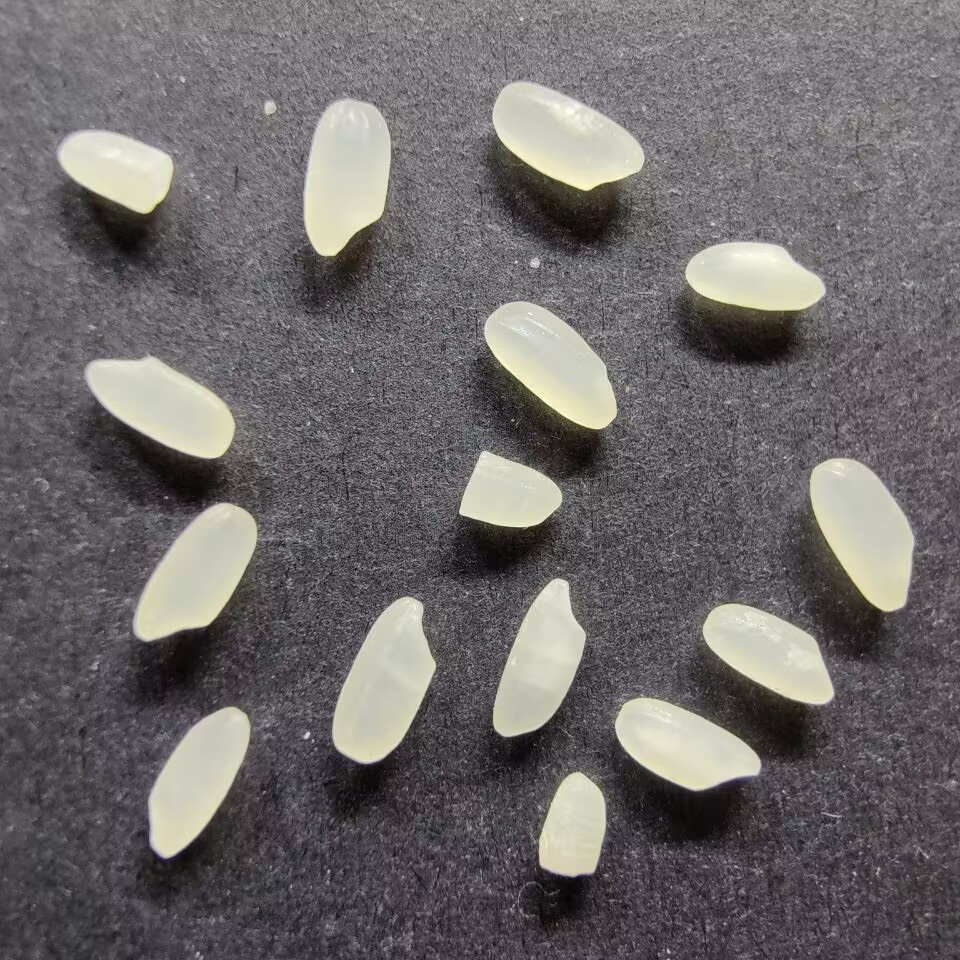broken: (56, 127, 175, 215), (456, 448, 565, 528), (536, 771, 606, 878)
rice: (329, 595, 437, 766), (132, 501, 260, 644), (481, 300, 619, 431), (491, 80, 645, 192), (808, 457, 917, 614), (146, 705, 252, 860), (81, 356, 236, 461), (492, 576, 589, 740), (300, 97, 393, 258), (613, 695, 763, 792), (702, 602, 836, 707), (683, 240, 826, 312)
